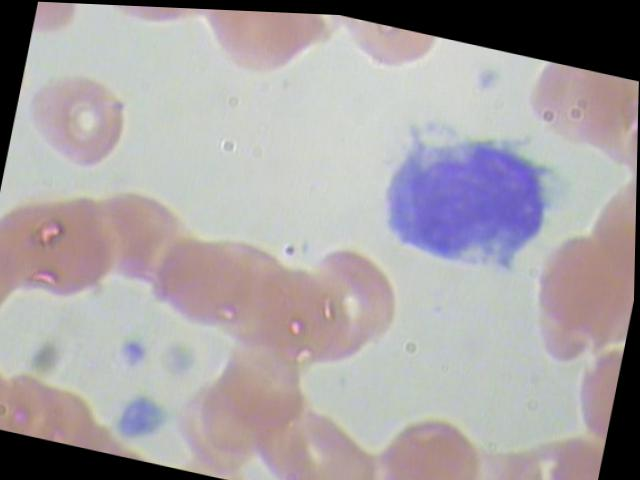Platelets: (114, 389, 176, 448), (111, 332, 154, 376), (469, 53, 511, 97)
Red Blood Cells: (13, 56, 151, 185), (188, 228, 326, 357), (291, 233, 428, 362), (248, 257, 385, 386), (143, 223, 280, 352), (105, 192, 242, 321), (69, 176, 206, 305), (186, 337, 323, 466), (0, 185, 134, 314), (520, 225, 635, 375), (254, 379, 393, 479), (190, 7, 325, 90), (356, 400, 495, 479)
White Blood Cells: (365, 102, 572, 285)
